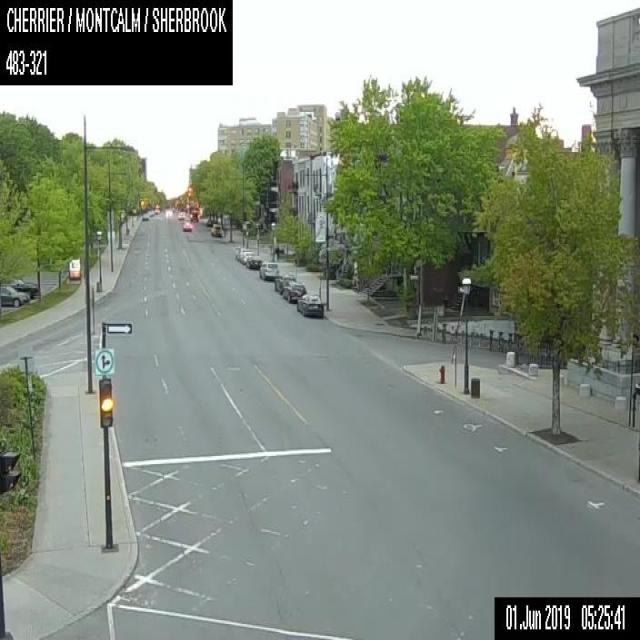vehicle: (296, 293, 324, 317), (0, 285, 29, 306), (9, 277, 37, 298), (282, 280, 306, 302), (274, 272, 294, 293), (258, 260, 278, 280), (239, 248, 254, 263), (246, 254, 261, 268), (210, 222, 221, 236), (189, 205, 198, 221), (182, 220, 191, 230), (142, 212, 148, 221), (177, 212, 184, 218)
